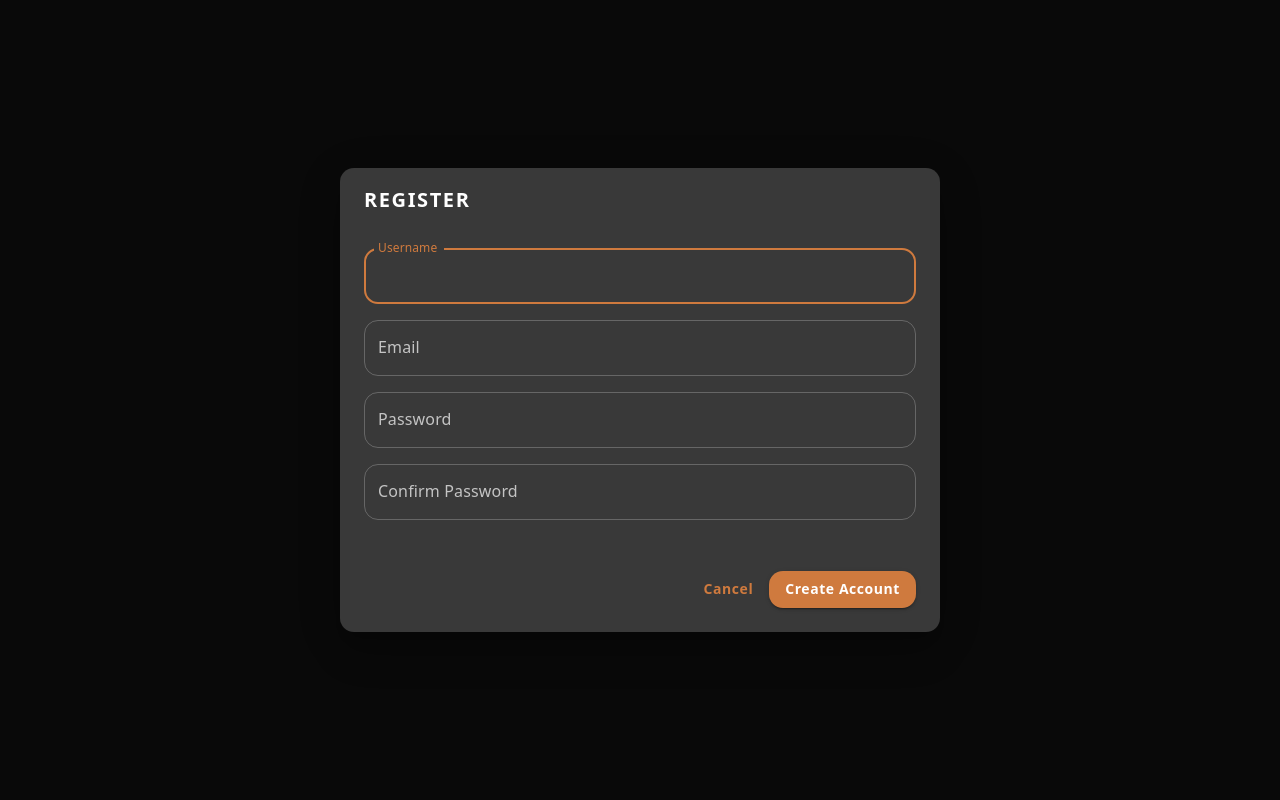
Test: RegisterModal › clears the mismatch message after the user updates a password field
Type "demo-user" into the field labelled "Username".
click(640, 276); type("demo-user")  # box [364,248,916,304]
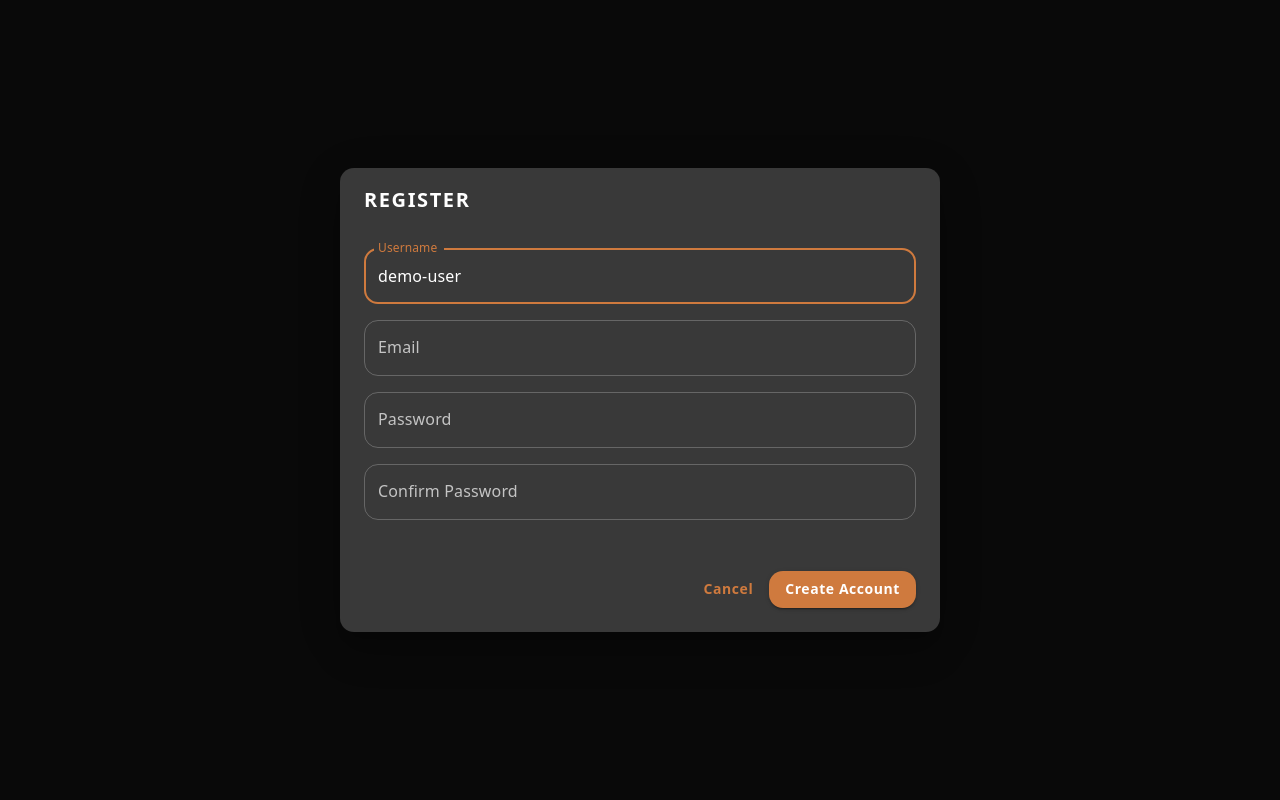
Type "demo@example.com" into the field labelled "Email".
click(640, 348); type("demo@example.com")  # box [364,320,916,376]
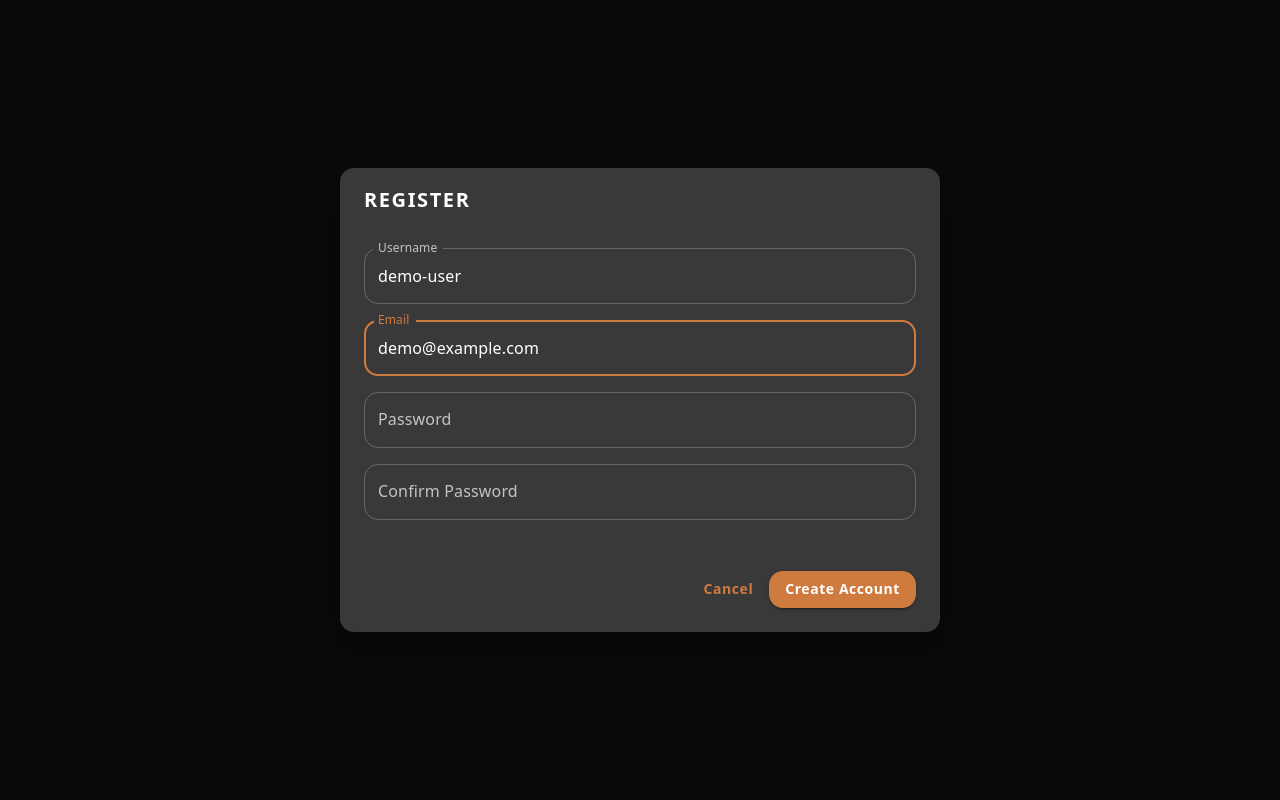
Type "secret-1" into the password field labelled "Password".
click(640, 420); type("secret-1")  # box [364,392,916,448]
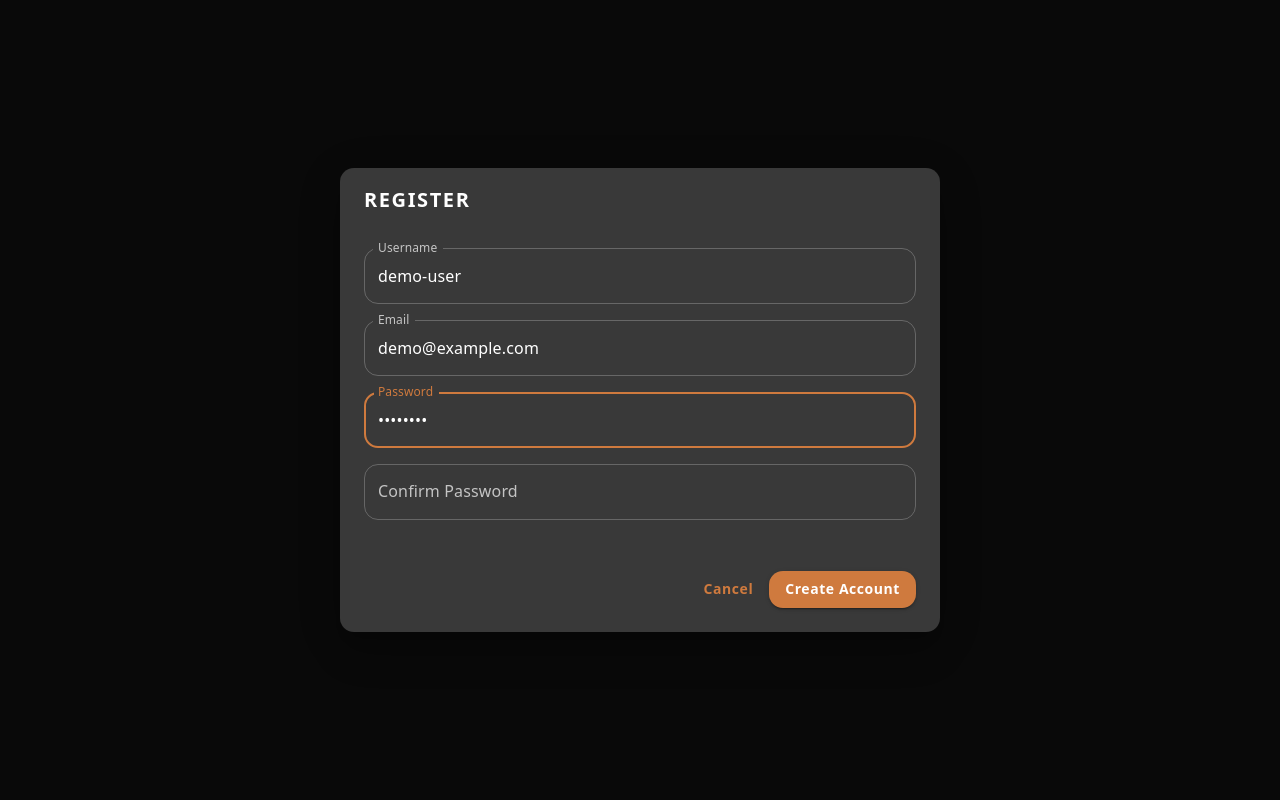
Type "secret-2" into the password field labelled "Confirm Password".
click(640, 492); type("secret-2")  # box [364,464,916,520]
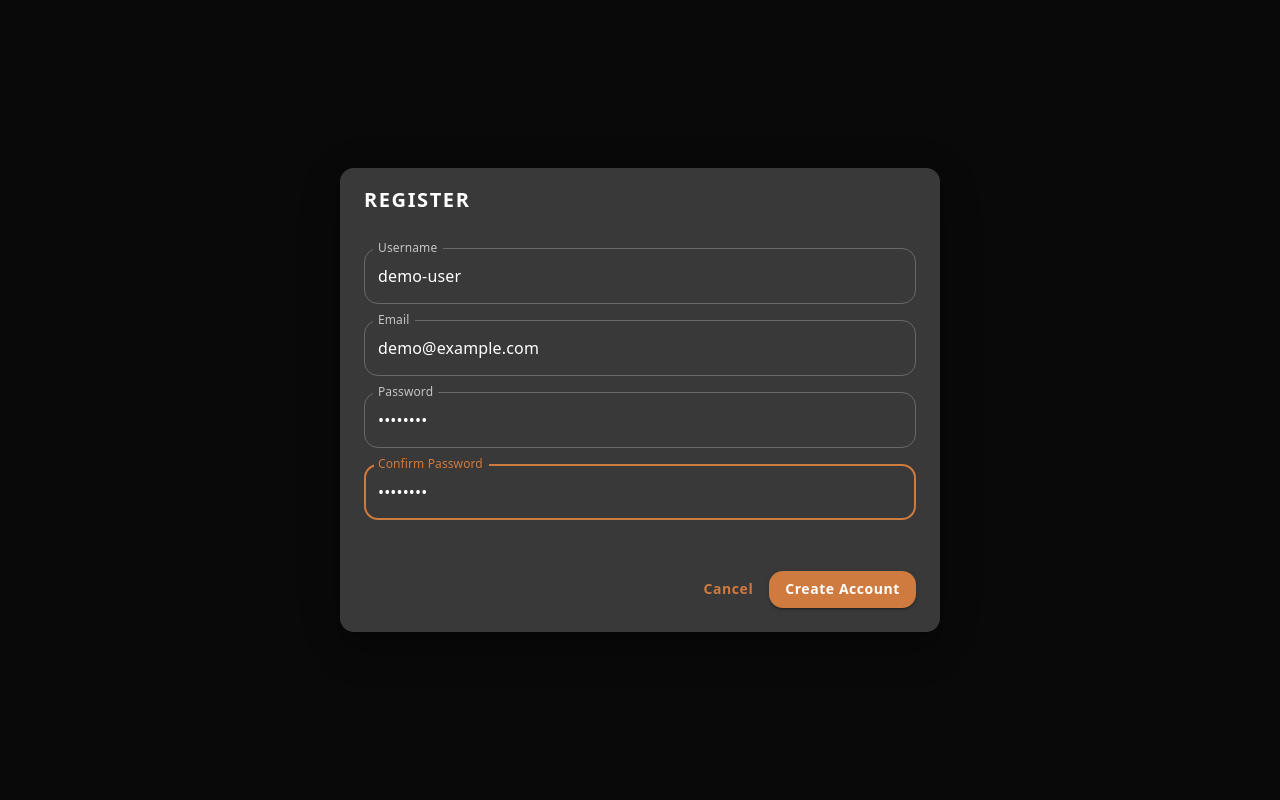
Click the button "Create Account".
click(843, 589)  # box [769,571,916,608]
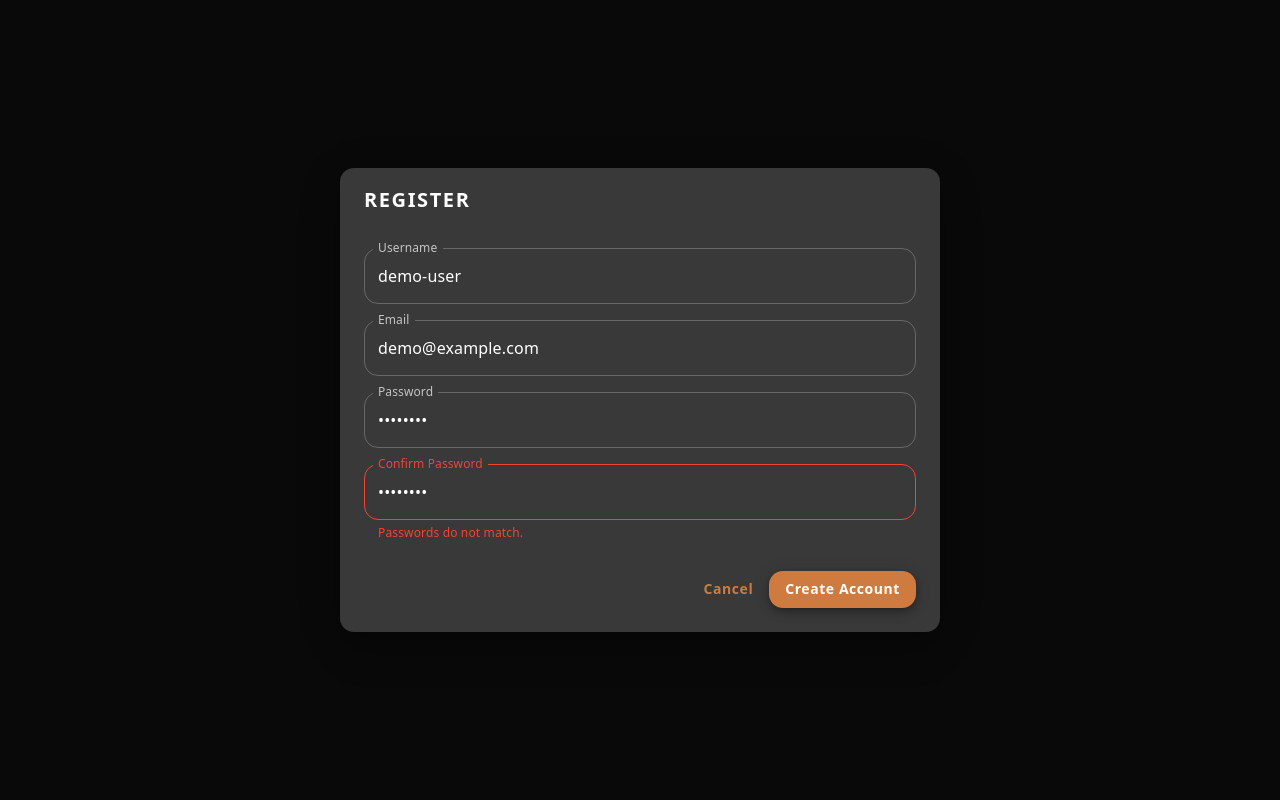
Expected: the text "Passwords do not match." is shown, [378,524,523,541]
Type "3" into the password field labelled "Confirm Password".
click(640, 492); type("3")  # box [364,464,916,520]
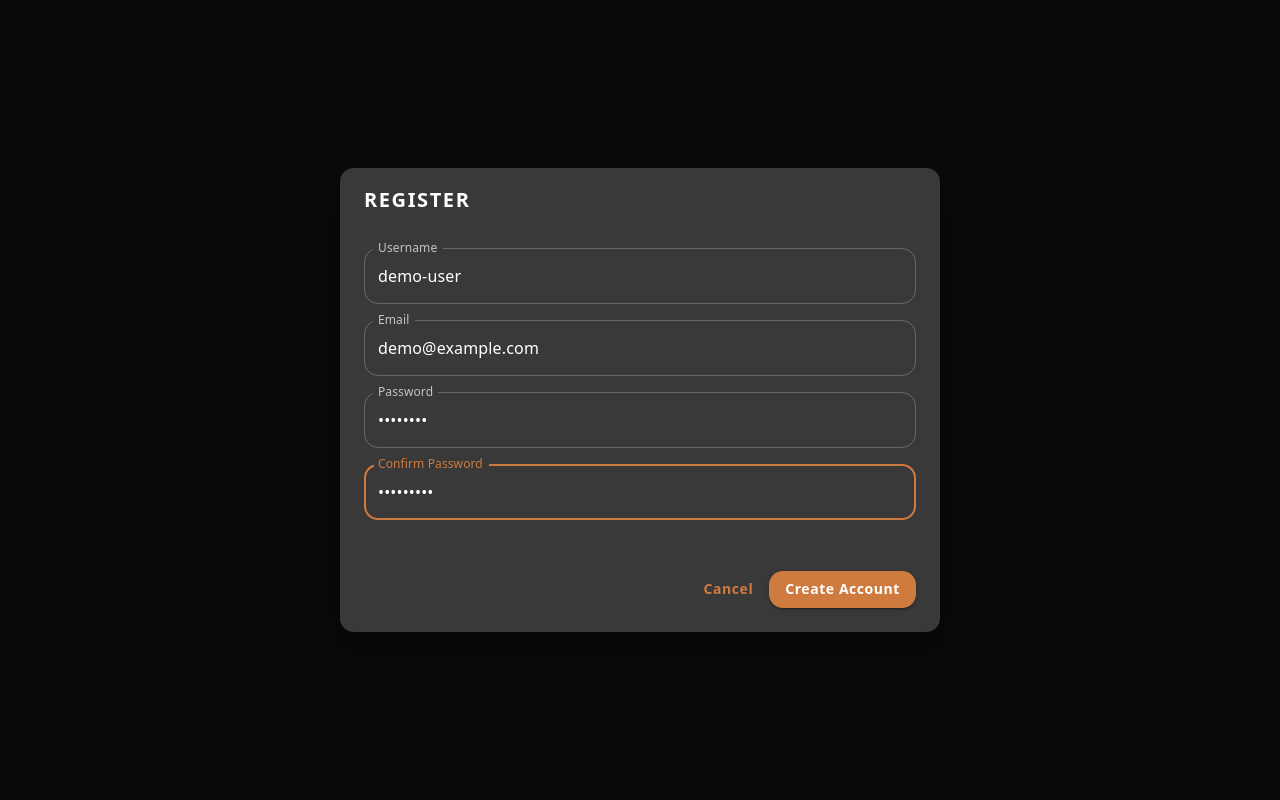
Expected: the text "Passwords do not match." is gone
